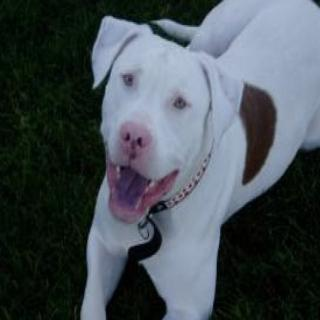dog: (85, 15, 246, 236)
nose: (117, 118, 152, 161)
